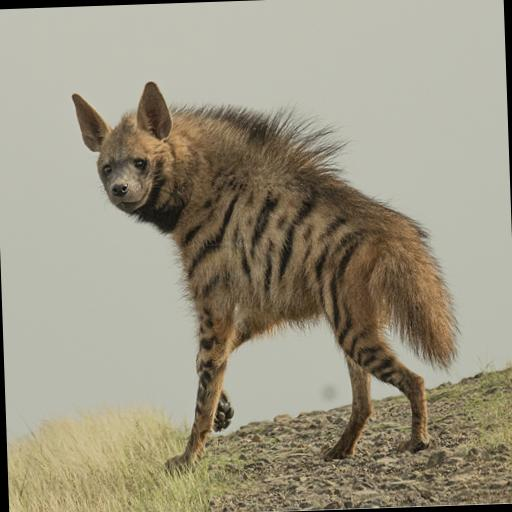hyenas: (55, 0, 464, 488)
